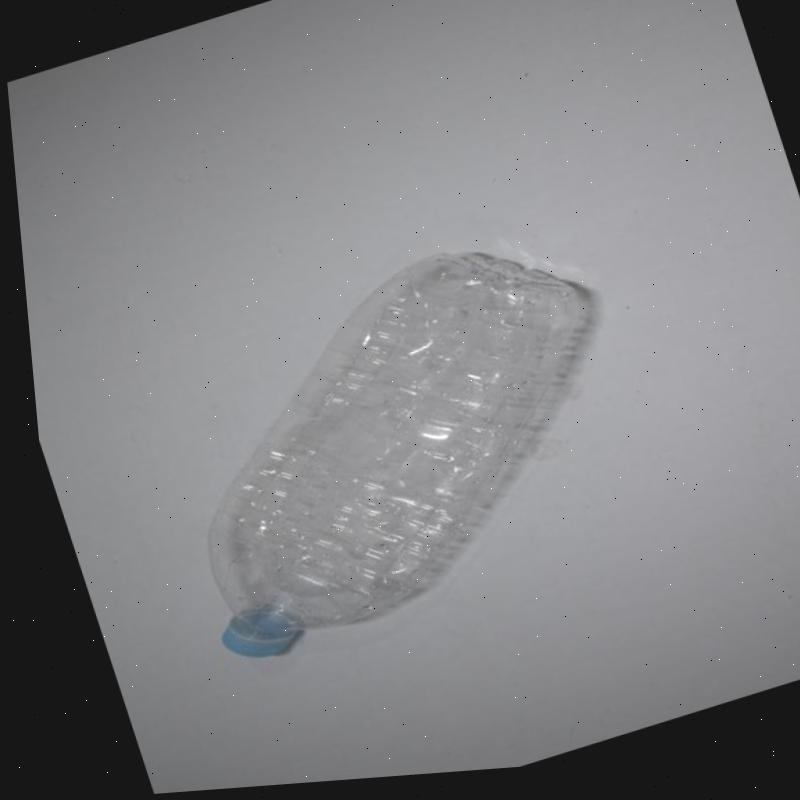botella: (108, 215, 659, 680)
